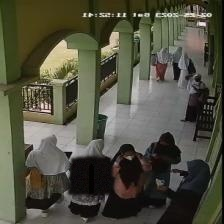Cadar_Niqab: (68, 138, 114, 194)
